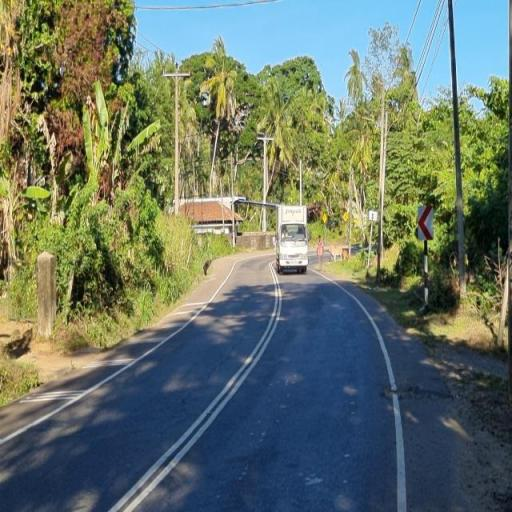double_white_line: (108, 253, 281, 512)
